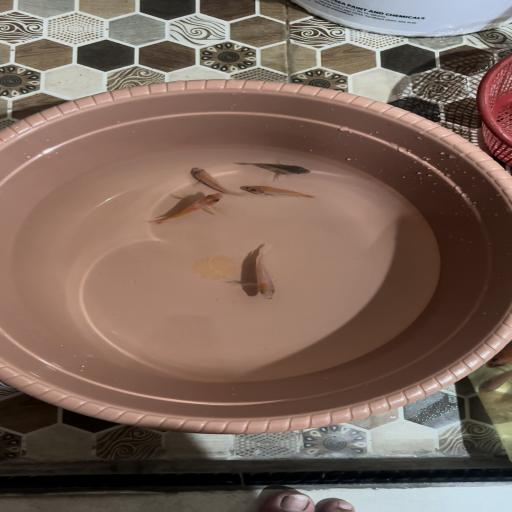nila: (146, 192, 225, 227), (244, 241, 285, 303), (232, 158, 319, 180), (240, 184, 320, 206), (186, 166, 242, 195)
